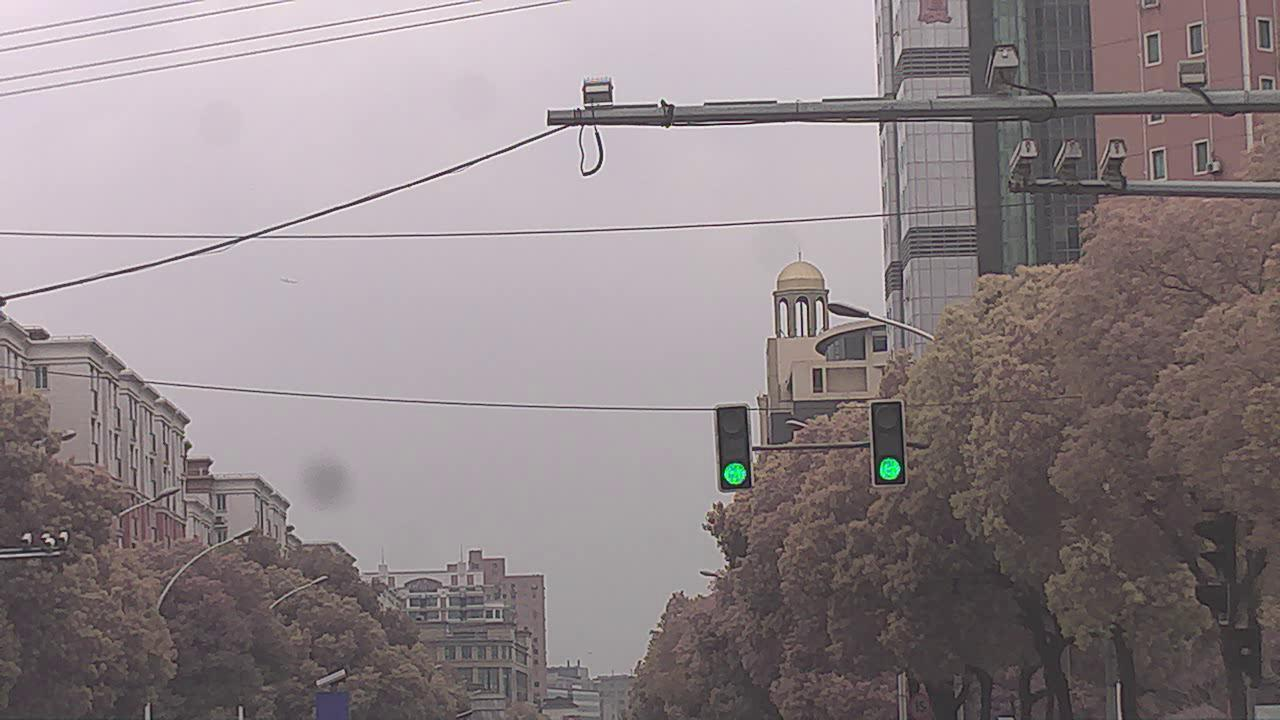traffic_light: (868, 398, 911, 484), (716, 404, 754, 491)
